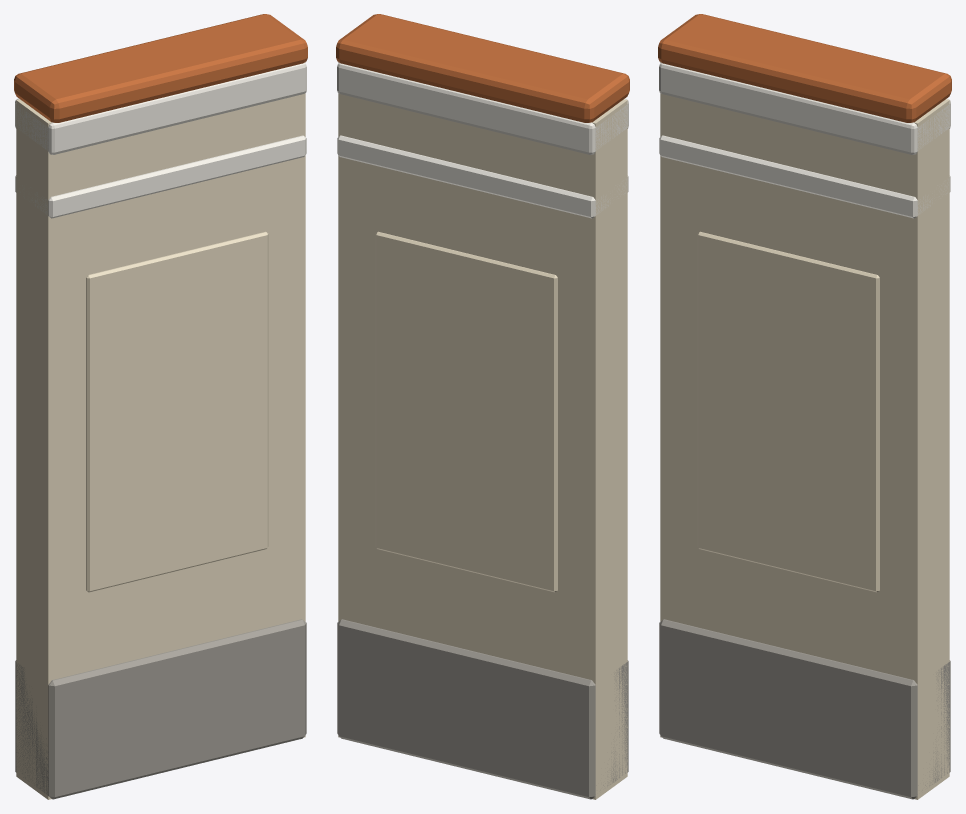
Rendered from parede_colonial.glb.
3 renders of one model, left to right at view 1: azimuth 30°, elevation 25°; view 2: azimuth 150°, elevation 25°; view 3: azimuth 330°, elevation 25°, orthographic.
Visible parts, largest first — view 1: parede_colonial; view 2: parede_colonial; view 3: parede_colonial.
Boxes of the visible parts, x1,y1,x2,y2 form: parede_colonial: [14, 14, 307, 799]; parede_colonial: [336, 14, 629, 799]; parede_colonial: [658, 14, 951, 799].
Bounding box in the file's own units: 1.02 × 2.65 × 0.29.
